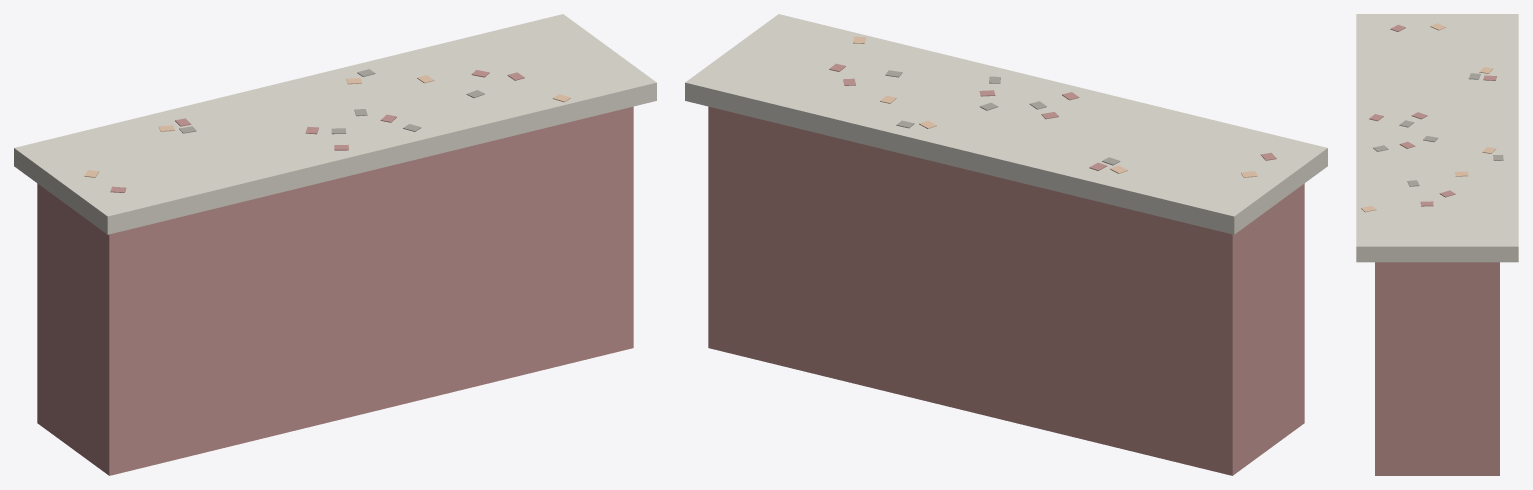
Rendered from bar_table.glb.
The picture shows the model from 3 angles, left to right: view 1: azimuth 30°, elevation 25°; view 2: azimuth 150°, elevation 25°; view 3: azimuth 270°, elevation 25°; orthographic projection. The views are drawn at different scales.
Parts seen in each view (by area): view 1: bar_table; view 2: bar_table; view 3: bar_table.
Part boxes in pixels (left/top/right/bottom): bar_table: left=14, top=14, right=656, bottom=475; bar_table: left=685, top=14, right=1327, bottom=475; bar_table: left=1356, top=14, right=1518, bottom=475.
Bounding box in the file's own units: 2.2 × 1.04 × 0.65.
